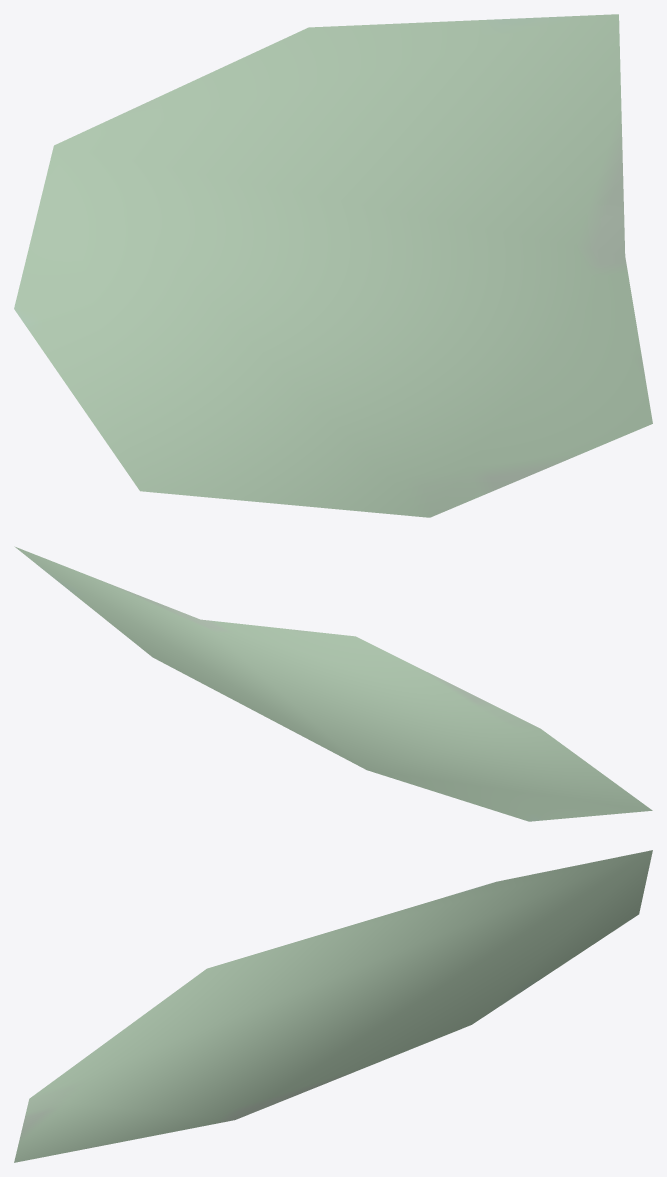
File: TROLLHOLE02_HOLECAP80.fbx
3 renders of one model, top to bottom at view 1: azimuth 30°, elevation 25°; view 2: azimuth 150°, elevation 25°; view 3: azimuth 270°, elevation 25°, orthographic. The views are drawn at different scales.
Parts seen in each view (by area): view 1: TROLLHOLE02_HOLECAP80; view 2: TROLLHOLE02_HOLECAP80; view 3: TROLLHOLE02_HOLECAP80.
Boxes of the visible parts, x1=… form: TROLLHOLE02_HOLECAP80: x1=14, y1=14, x2=652, y2=517; TROLLHOLE02_HOLECAP80: x1=14, y1=546, x2=652, y2=821; TROLLHOLE02_HOLECAP80: x1=14, y1=850, x2=652, y2=1162.
Size of the model in its own units: 10735 by 4427 by 9082.
1 material, 1 textured.
